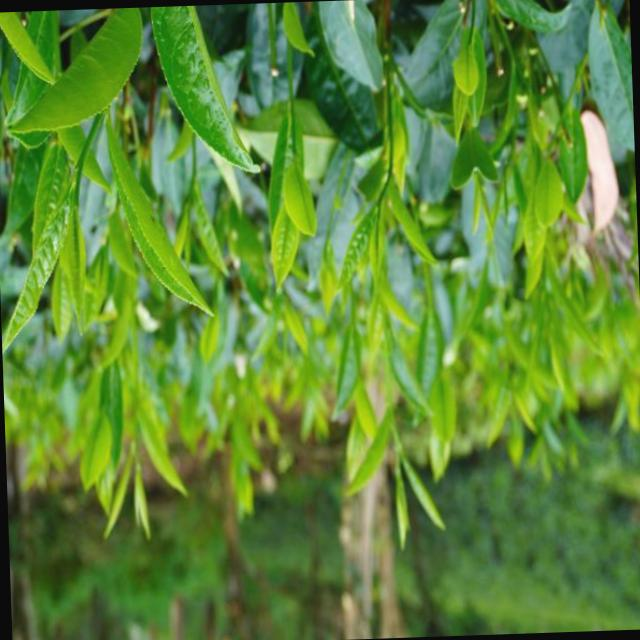Stem: (394, 440, 401, 451), (287, 102, 293, 113), (469, 23, 475, 32), (76, 158, 81, 166), (191, 168, 195, 175), (376, 199, 379, 206)
